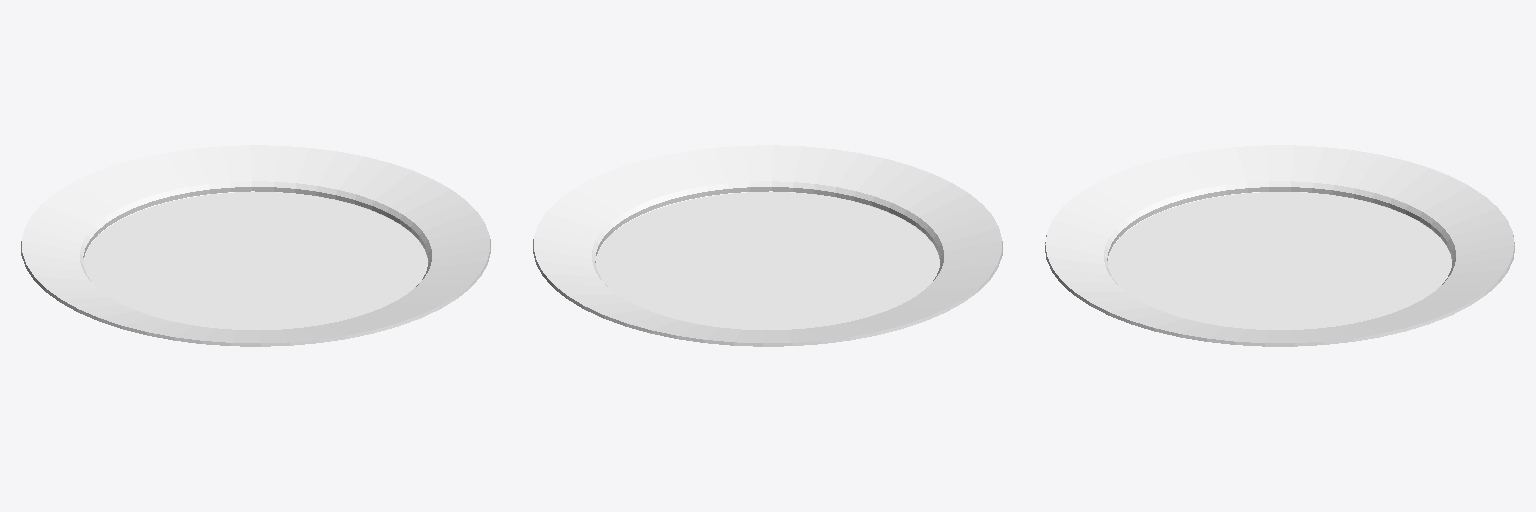
File: plate1.obj
The picture shows the model from 3 angles: view 1: azimuth 30°, elevation 25°; view 2: azimuth 150°, elevation 25°; view 3: azimuth 270°, elevation 25°; orthographic projection.
Visible parts, largest first — view 1: Circle; view 2: Circle; view 3: Circle.
Boxes of the visible parts, x1,y1,x2,y2 form: Circle: [21, 145, 490, 346]; Circle: [533, 145, 1002, 346]; Circle: [1045, 145, 1514, 346].
Bounding box in the file's own units: 0.4001 × 0.022 × 0.4009.